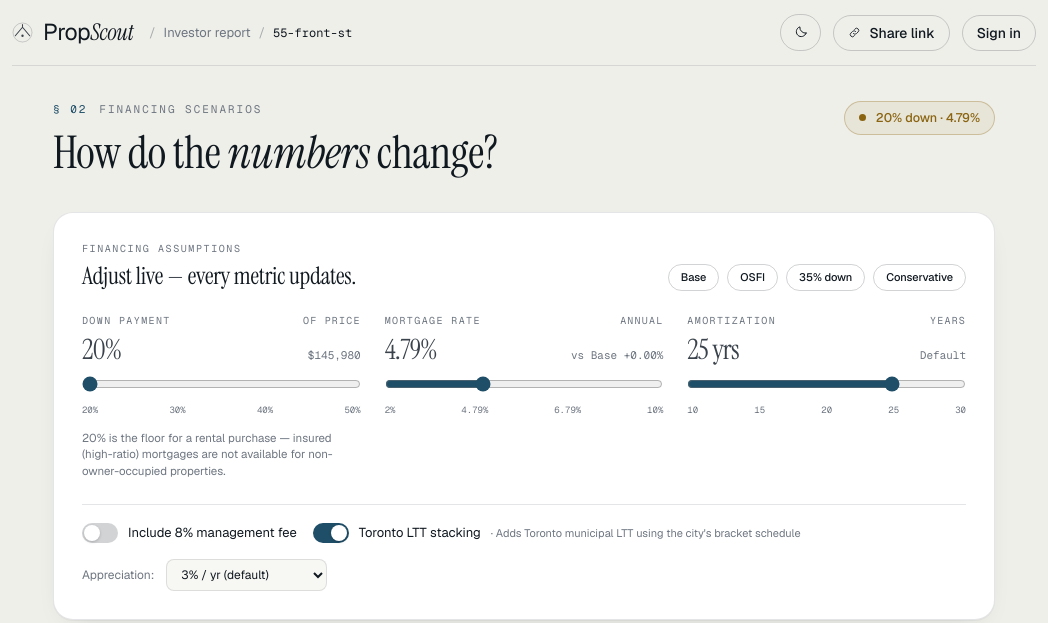
Test: ReportPage — live financing sliders recompute every dependent metric › does not re-grade the deal score when financing changes
This screenshot has width=1048, height=623.
(page scrolled)
Set the slider labelled "Down payment" to "50". click: (353, 384)
box: [82,376,361,392]
(page scrolled)
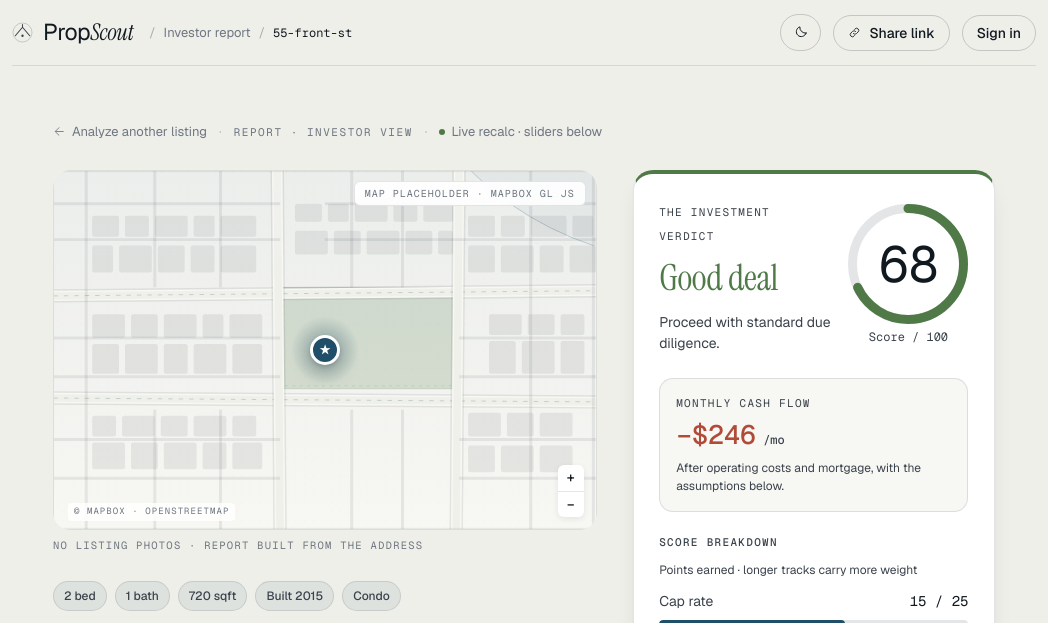
Check: the text "68" is shown, box [879,239,938,290]
Check: the text "−$246" is shown, box [676,417,756,452]
